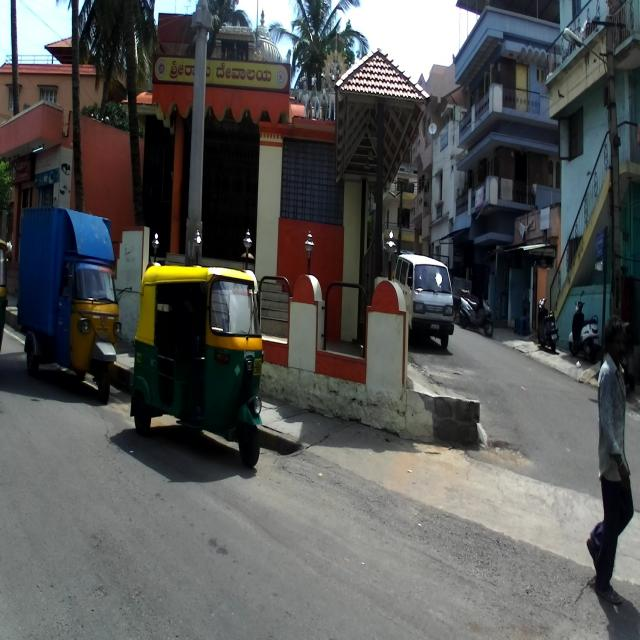autorickshaw: (129, 263, 264, 471), (16, 197, 122, 406)
car: (394, 253, 454, 347)
scooter: (568, 289, 600, 363), (459, 290, 494, 336), (536, 295, 559, 356)
